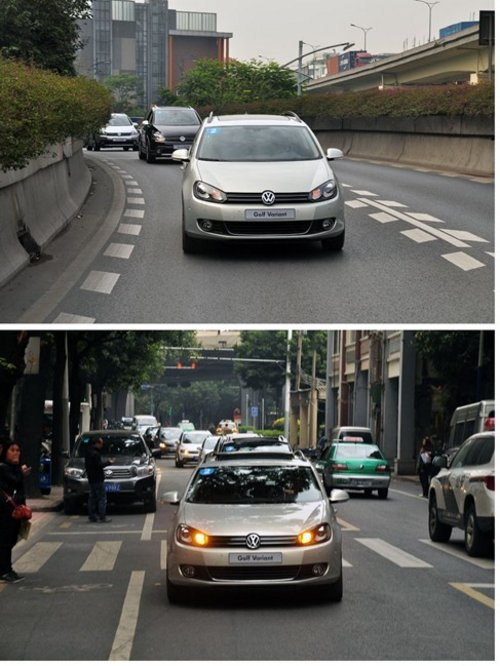car: (172, 450, 339, 614), (185, 115, 341, 266), (65, 418, 158, 517), (428, 428, 500, 549), (139, 99, 206, 172), (101, 110, 136, 153)
